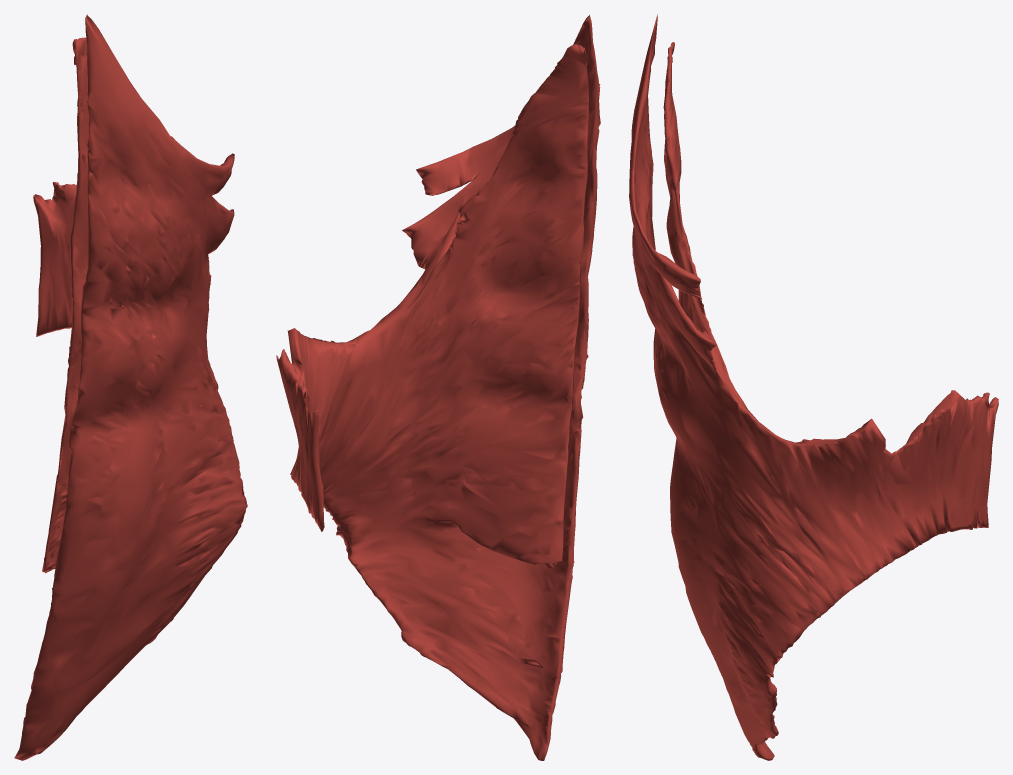
File: musculos-internal-abdominal-oblique-muscle-l.glb
The picture shows the model from 3 angles, left to right: view 1: azimuth 30°, elevation 25°; view 2: azimuth 150°, elevation 25°; view 3: azimuth 270°, elevation 25°; orthographic projection. The views are drawn at different scales.
Parts seen in each view (by area): view 1: Internal abdominal oblique muscle.l; view 2: Internal abdominal oblique muscle.l; view 3: Internal abdominal oblique muscle.l.
Part boxes in pixels (x1,y1,x2,y2): Internal abdominal oblique muscle.l: (14, 14, 247, 760); Internal abdominal oblique muscle.l: (276, 14, 600, 760); Internal abdominal oblique muscle.l: (629, 14, 998, 760).
Bounding box in the file's own units: 0.1245 × 0.3917 × 0.1754.
